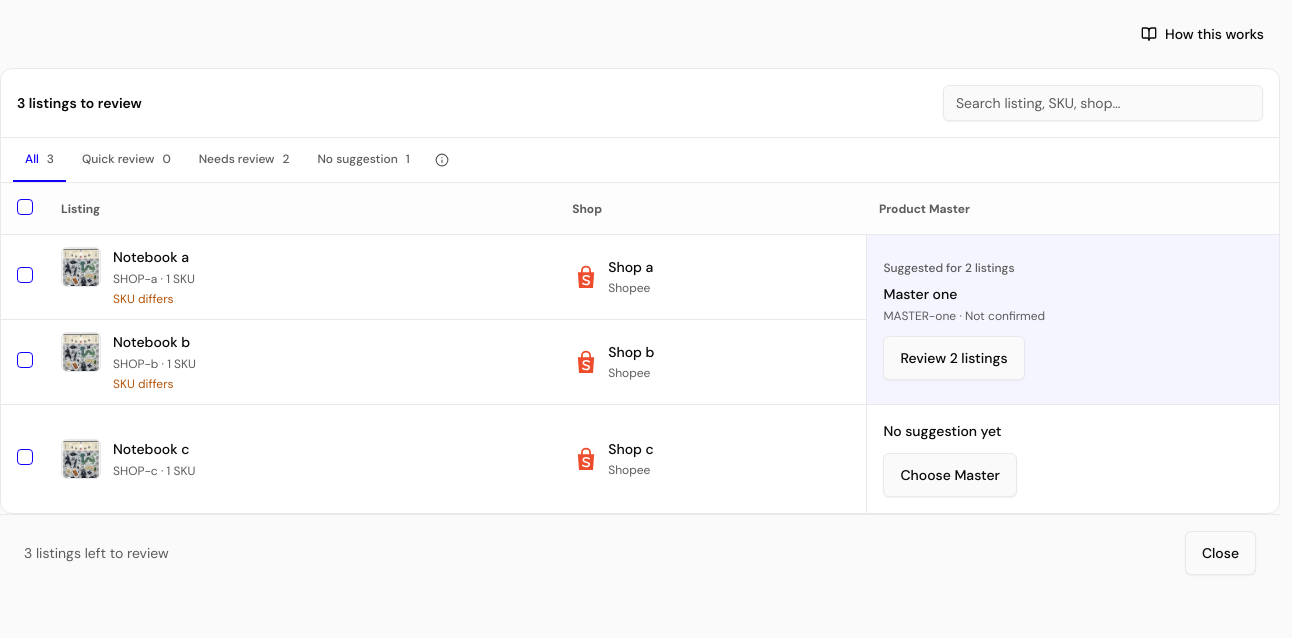
Scenario: Shared suggested Master groups › keeps selection independent from grouping and retains hidden selections in the footer
Click the checkbox named "Select listing SHOP-a from Shop a": [25, 275] box x1=17 y1=267 x2=33 y2=283
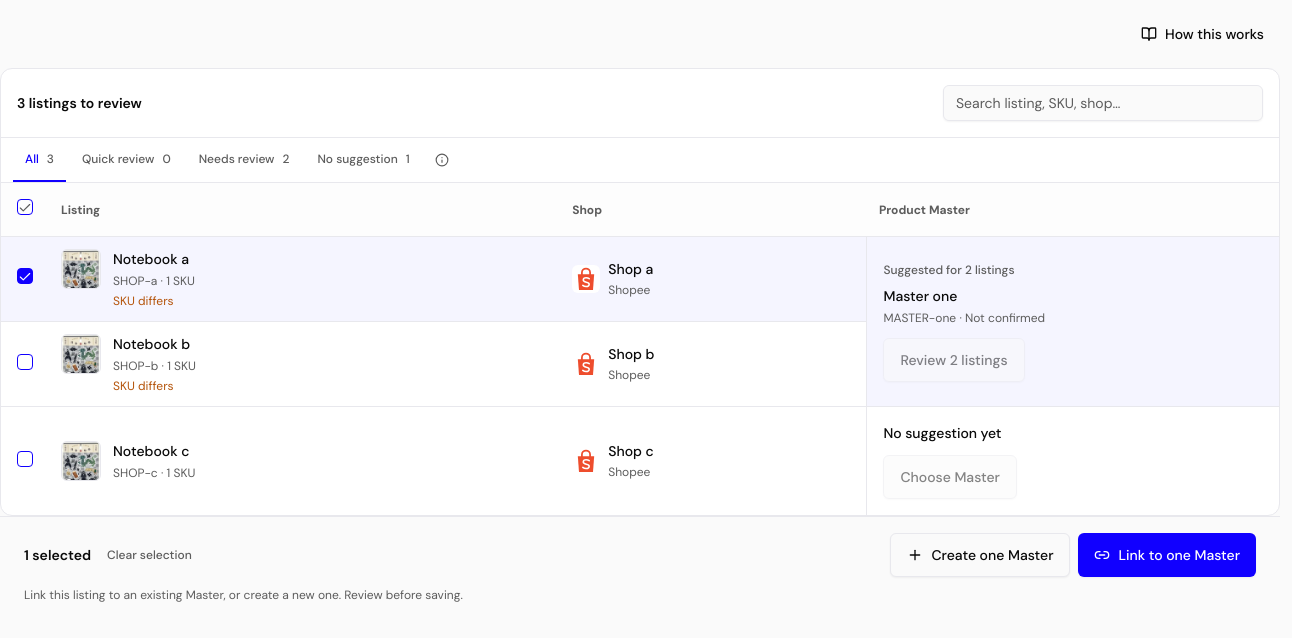
expect the checkbox named "Select listing SHOP-b from Shop b" is not checked: met, box x1=17 y1=354 x2=33 y2=370
expect the button "Review 2 listings" is disabled: met, box x1=883 y1=338 x2=1025 y2=382
expect the element named "Listing review footer" shows "1 selected": met, box x1=0 y1=516 x2=1280 y2=621
In the field named "Search shop listings": [1103, 103] box x1=943 y1=85 x2=1263 y2=121, type "Shop b"
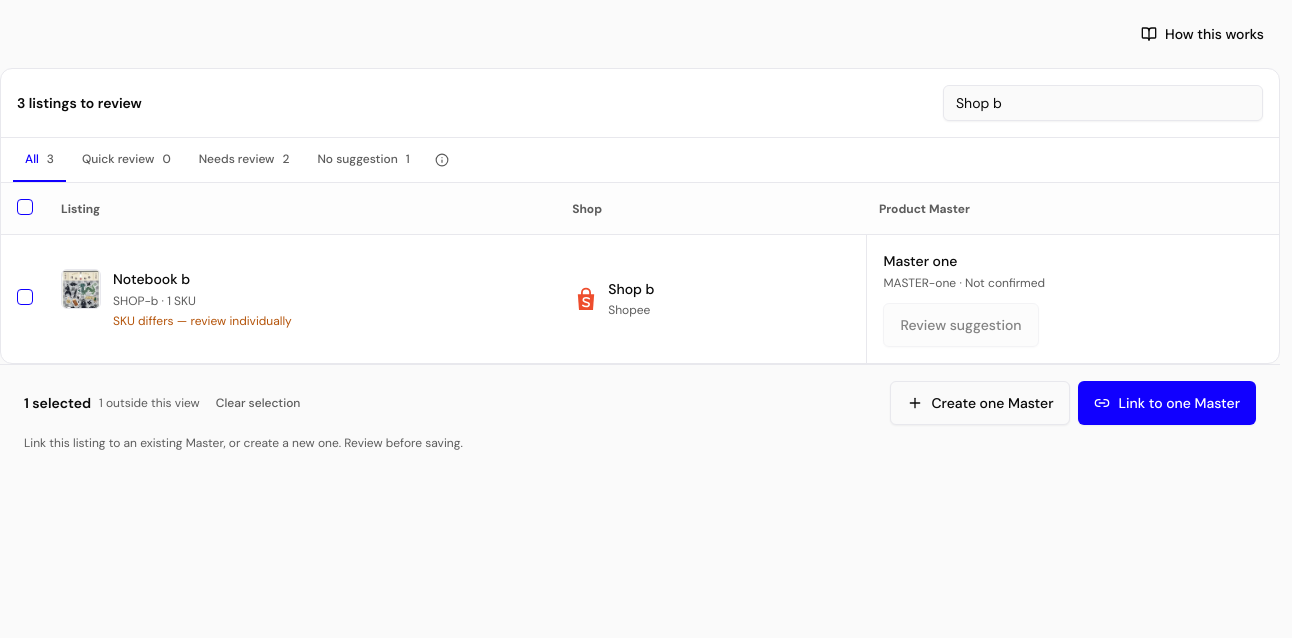
expect the text "1 outside this view" is shown: met, box x1=99 y1=395 x2=200 y2=411
expect the button "Review suggestion" is disabled: met, box x1=883 y1=303 x2=1038 y2=347
Click the checkbox named "Select visible shop listings": [25, 207] box x1=17 y1=199 x2=33 y2=215
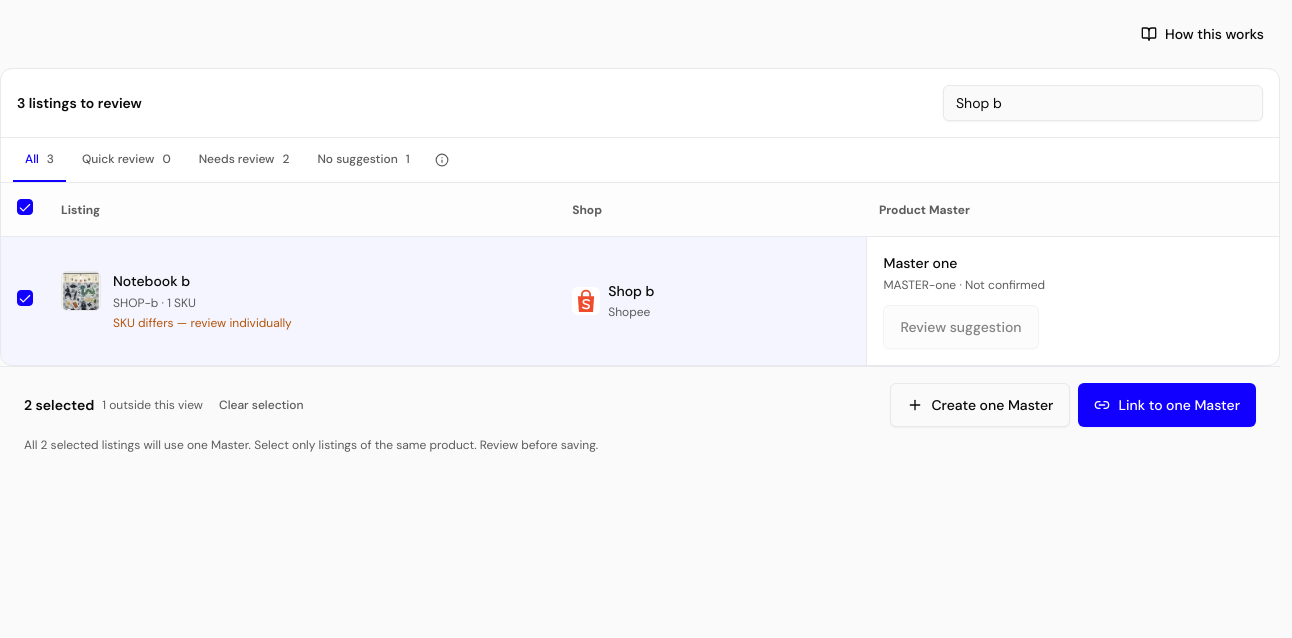
expect the button "Link to one Master" is enabled: met, box x1=1078 y1=383 x2=1256 y2=427
Click the button "Clear selection": [261, 405] box x1=211 y1=383 x2=312 y2=427
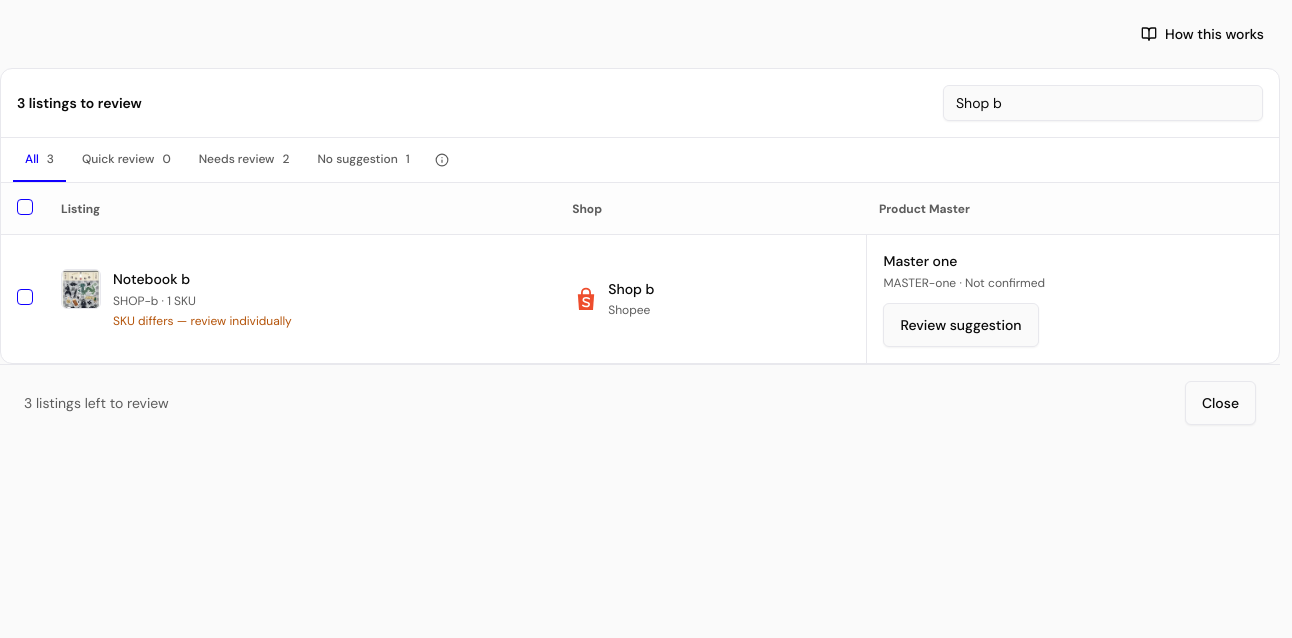
expect the button "Review suggestion" is enabled: met, box x1=883 y1=303 x2=1038 y2=347
Clear the field named "Search shop listings": [1103, 103] box x1=943 y1=85 x2=1263 y2=121
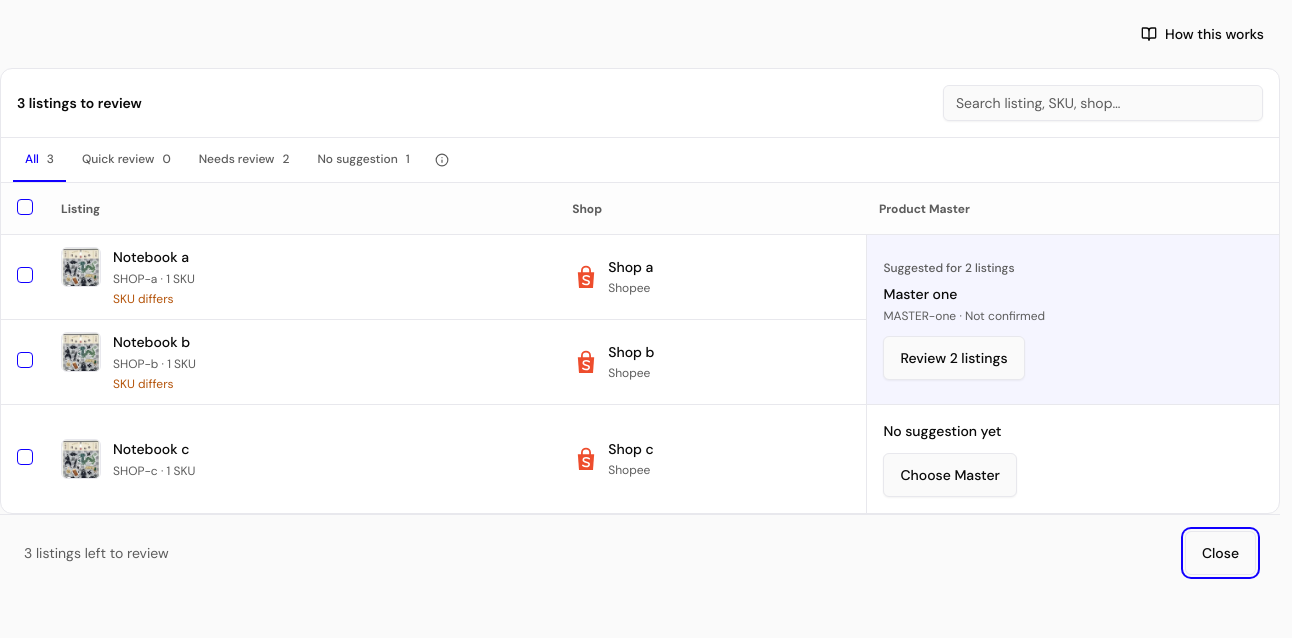
expect the checkbox named "Select visible shop listings" is not checked: met, box x1=17 y1=199 x2=33 y2=215
expect the button "Review 2 listings" is enabled: met, box x1=883 y1=336 x2=1025 y2=380
